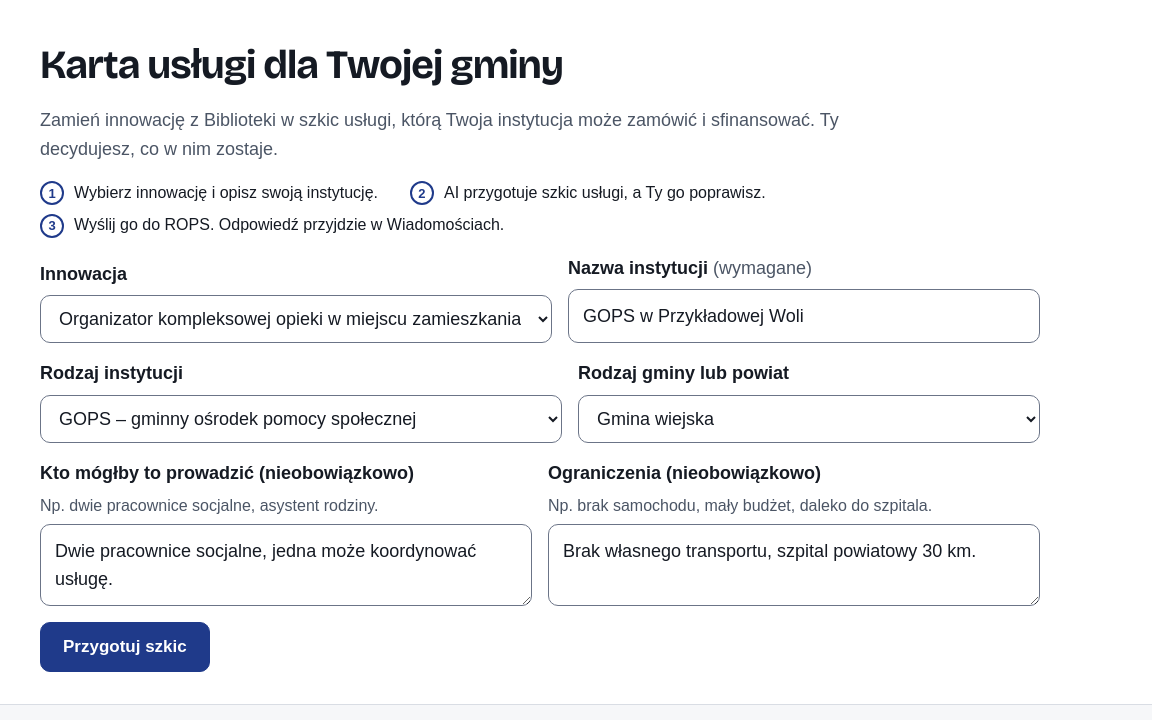
MiddlemanWorkbench focus and announcements › announces a failed draft
The image size is (1152, 720).
Click the button "Przygotuj szkic" at (125, 647), box [40,622,210,672]
(page scrolled)
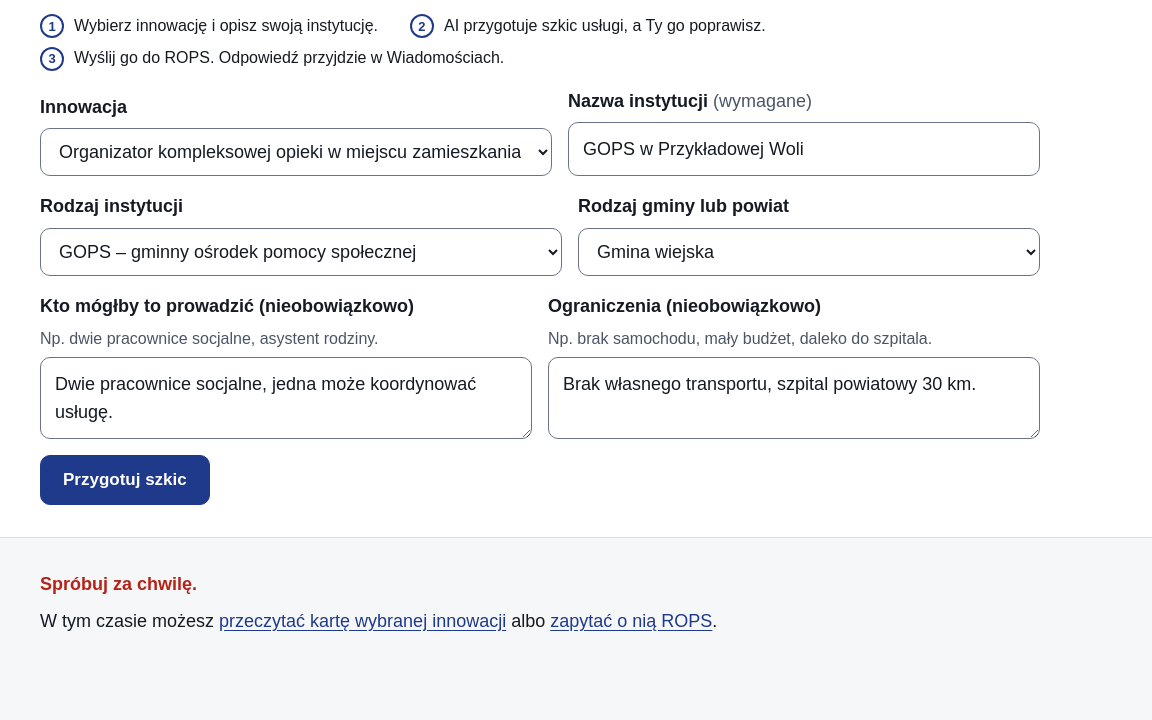
Expected: the text "Spróbuj za chwilę." is shown, [40,574,197,594]
